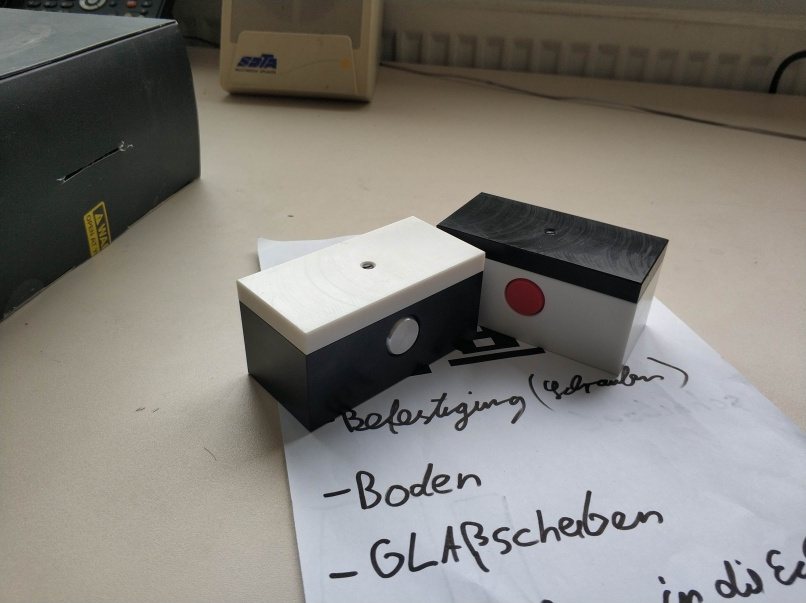black+white+red: (435, 189, 672, 371)
white+black+silver: (234, 215, 489, 433)
